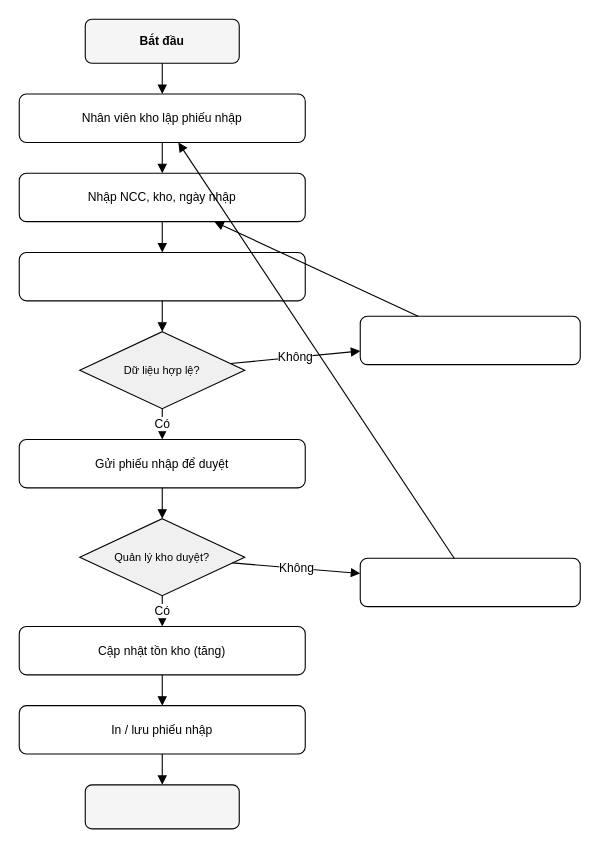
Some shapes in this 600 by 848 pixel diagram are drawn without their labels. The shapes that lost their labels are listed below. From the top down, each one's centre as x and y in pixels, then its label:
At point 161,276: "Thêm chi tiết hàng hóa nhập".
At point 469,340: "Báo lỗi, yêu cầu nhập lại".
At point 469,582: "Từ chối, trả lại nhân viên".
At point 161,806: "Kết thúc".
